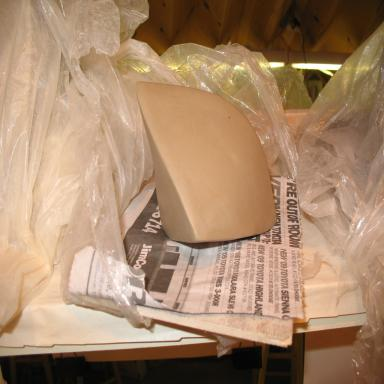plasticbag: (21, 40, 300, 325)
